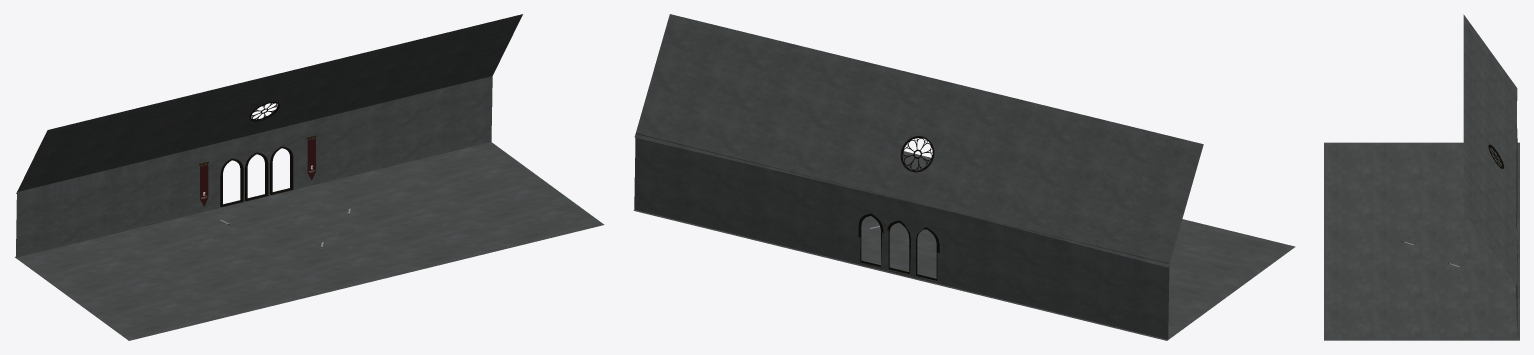
The model's file is walls3.glb.
The picture shows the model from 3 angles, left to right: view 1: azimuth 30°, elevation 25°; view 2: azimuth 150°, elevation 25°; view 3: azimuth 270°, elevation 25°; orthographic projection. The views are drawn at different scales.
Parts seen in each view (by area): view 1: Walls, Floor, Rose, Cylinder_stuff_0.004; view 2: Walls, Floor, Rose; view 3: Floor, Walls, Rose.
Boxes of the visible parts, left/top/right/bottom form: Walls: left=16, top=14, right=522, bottom=257; Floor: left=15, top=142, right=604, bottom=340; Rose: left=220, top=101, right=293, bottom=207; Cylinder_stuff_0.004: left=200, top=138, right=315, bottom=206; Walls: left=634, top=14, right=1203, bottom=339; Floor: left=633, top=151, right=1295, bottom=340; Rose: left=858, top=136, right=939, bottom=280; Floor: left=1324, top=142, right=1519, bottom=340; Walls: left=1463, top=14, right=1517, bottom=335; Rose: left=1488, top=144, right=1516, bottom=227.
Bounding box in the file's own units: 51.46 × 15.63 × 21.49.
Materials: 6 (4 with a texture image).
